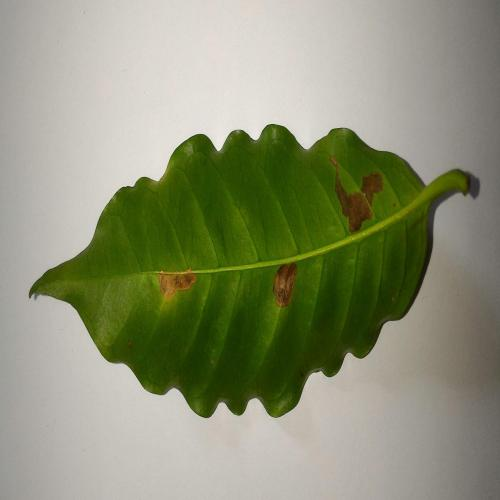leaf: (330, 156, 382, 232)
